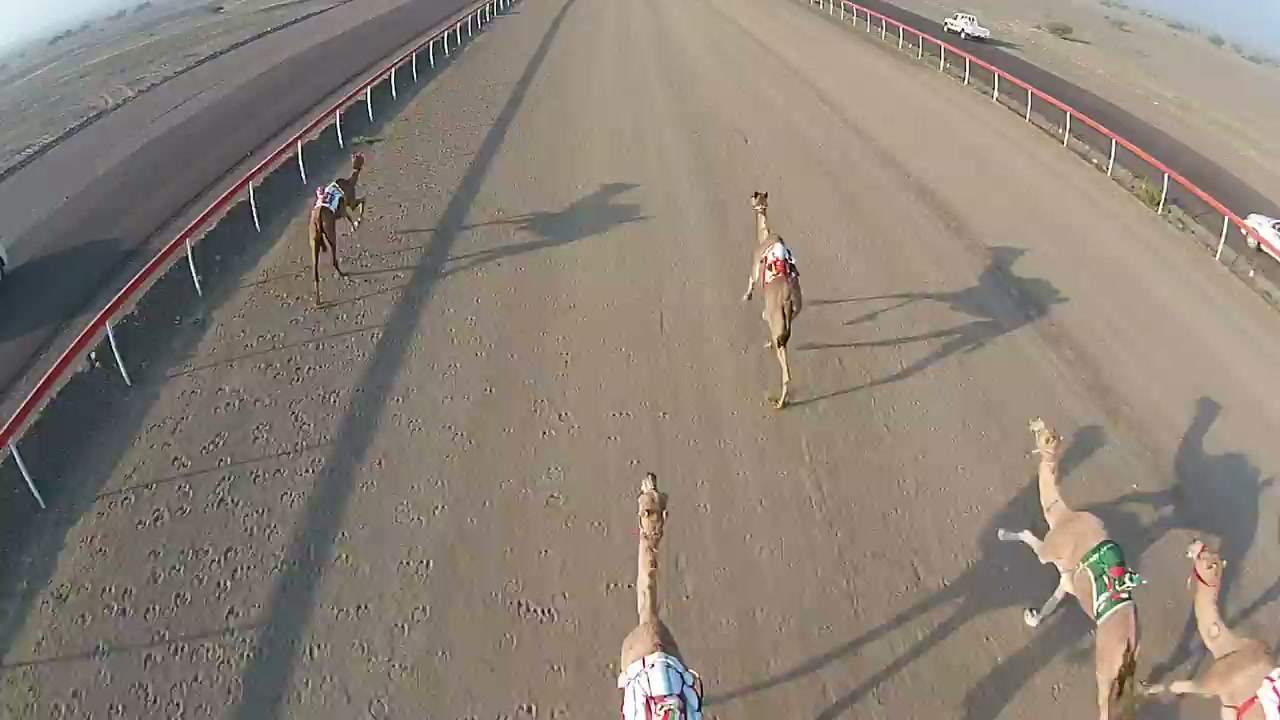animal_footprint: (31, 304, 355, 715)
